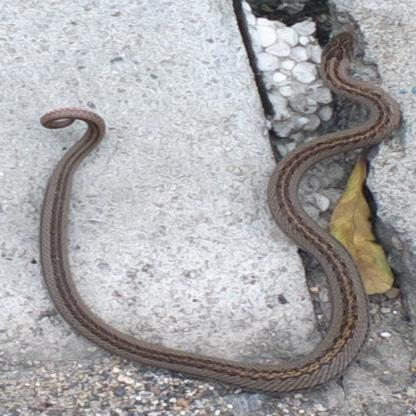snakes: (31, 30, 400, 393)
